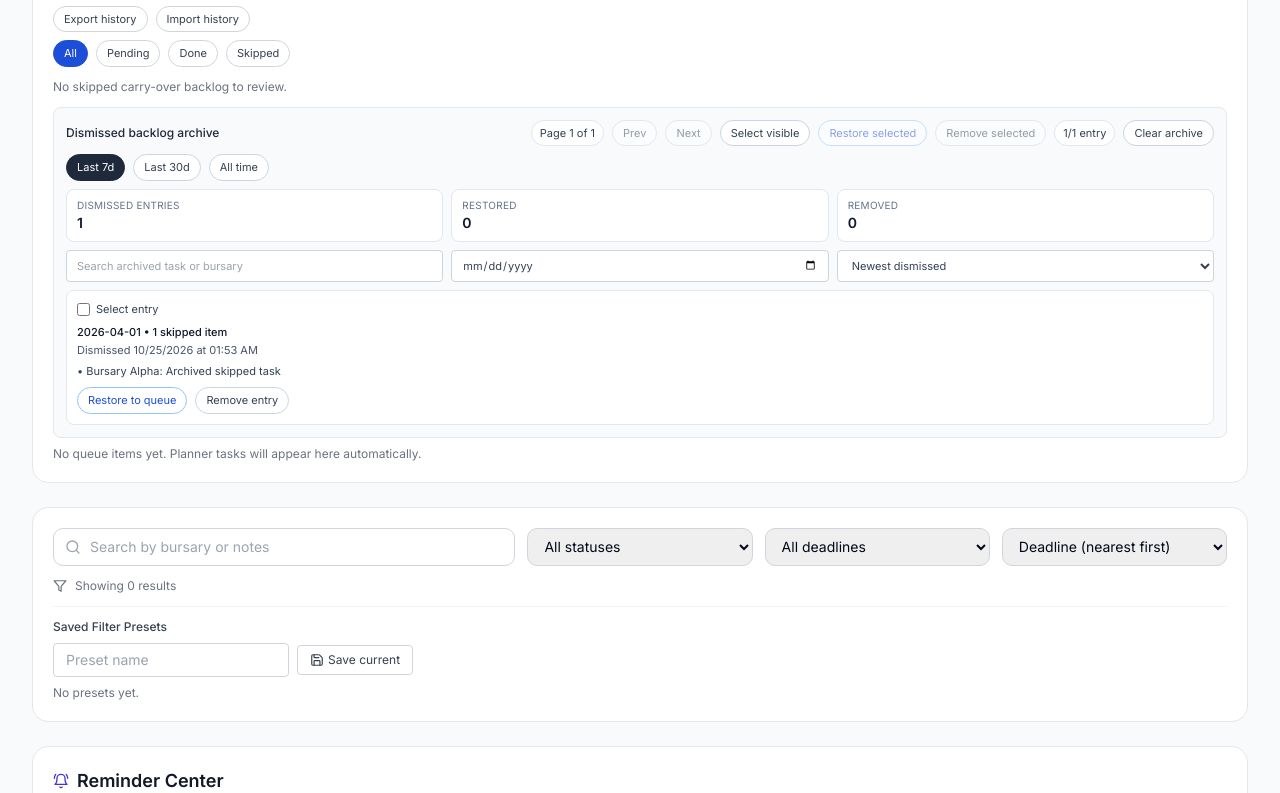
Test: ApplicationTracker phase 2.5 interactions › restores an archived backlog entry into today queue
The width and height of the screenshot is (1280, 793).
(page scrolled)
Expected: the text "Dismissed backlog archive" is shown, left=66, top=125, right=219, bottom=141
Click the button "Restore to queue" at x=132, y=400, box left=77, top=387, right=188, bottom=414
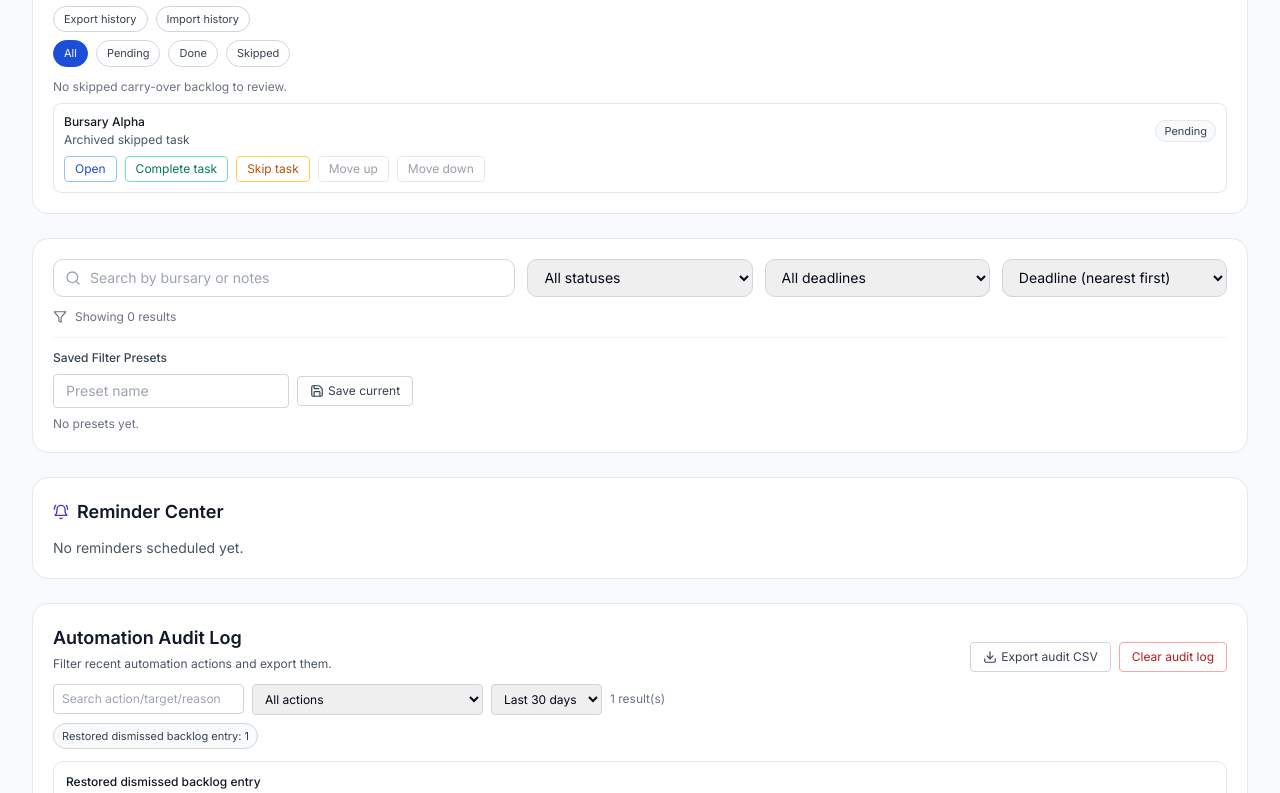
Expected: the text "Archived skipped task" is shown, left=64, top=132, right=190, bottom=148
Result: the text "Dismissed backlog archive" is gone
Result: the text "Pending" is shown at left=1156, top=120, right=1216, bottom=142
